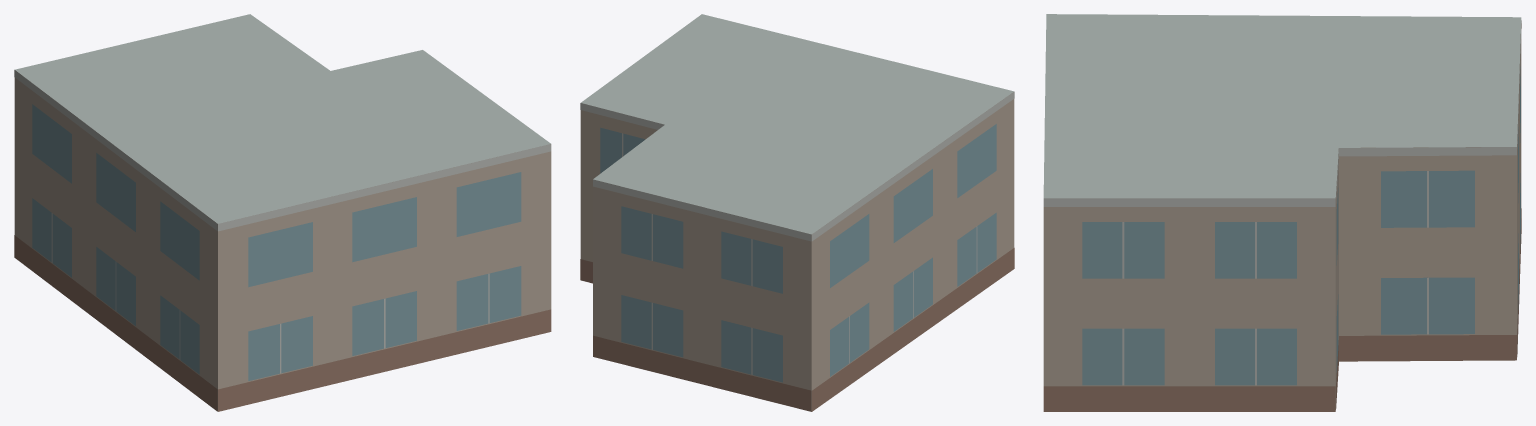
The model's file is survey-upis-32611546.glb.
3 views of the same model, side by side, from view 1: azimuth 30°, elevation 25°; view 2: azimuth 150°, elevation 25°; view 3: azimuth 270°, elevation 25° (orthographic). The views are drawn at different scales.
Visible parts, largest first — view 1: survey-upis-32611546.tmp; view 2: survey-upis-32611546.tmp; view 3: survey-upis-32611546.tmp.
Boxes of the visible parts, bbox=[...] form: survey-upis-32611546.tmp: bbox=[14, 14, 551, 411]; survey-upis-32611546.tmp: bbox=[580, 14, 1014, 411]; survey-upis-32611546.tmp: bbox=[1043, 14, 1521, 411].
Bounding box in the file's own units: 11.3 × 6.1 × 12.38.
